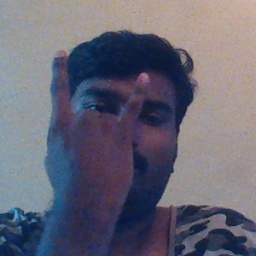V: (41, 48, 158, 221)
